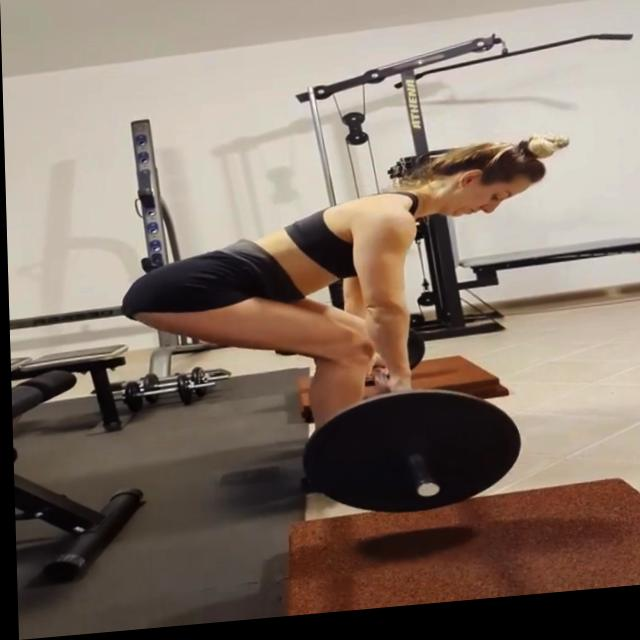barbell: (291, 387, 523, 532)
